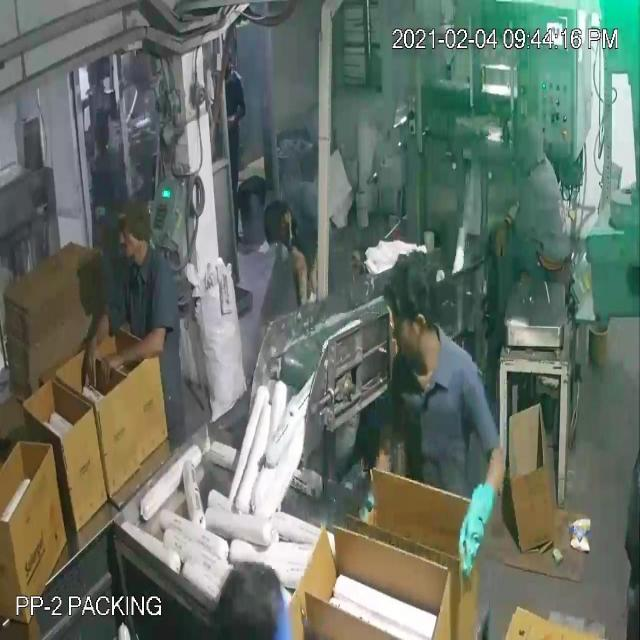No_Gloves: (29, 72, 473, 515)
